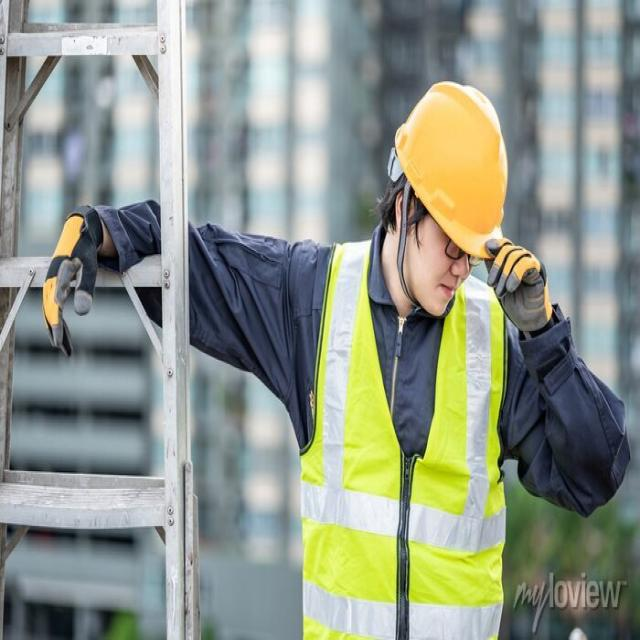helmet: (391, 71, 515, 256)
vest: (297, 290, 507, 640)
